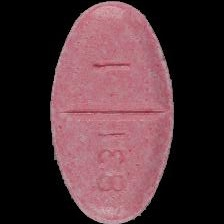42549-497: (0, 0, 224, 224)
